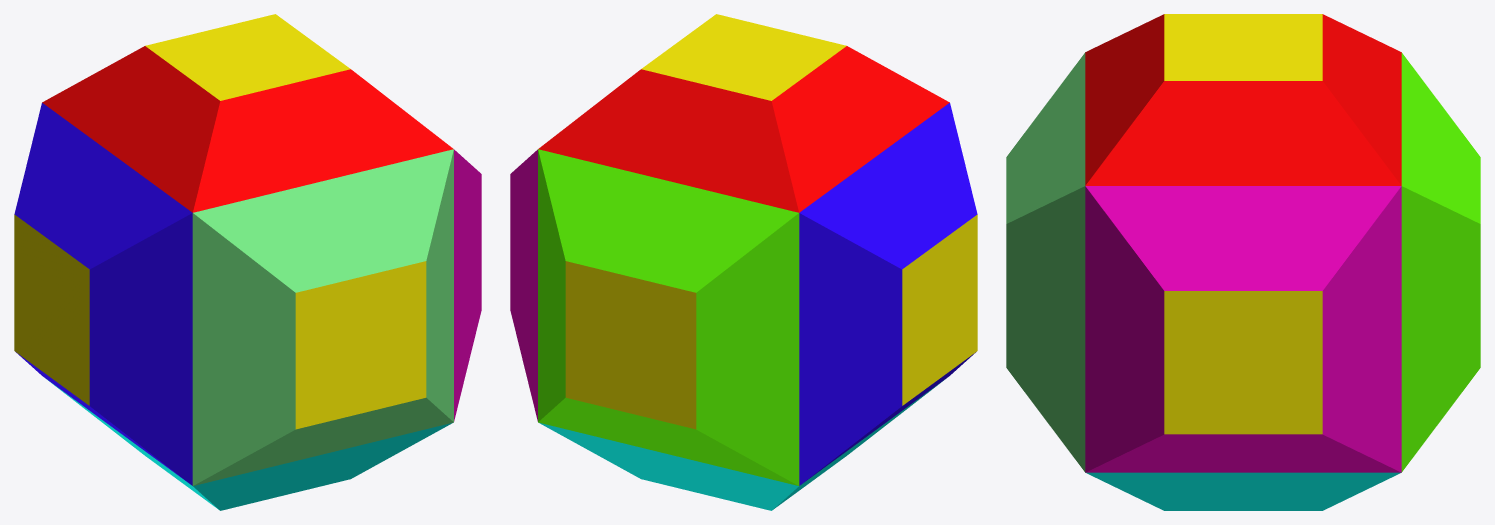
The model's file is PlayerBullet.dae.
The picture shows the model from 3 angles, left to right: view 1: azimuth 30°, elevation 25°; view 2: azimuth 150°, elevation 25°; view 3: azimuth 270°, elevation 25°; orthographic projection. The views are drawn at different scales.
Visible parts, largest first — view 1: Cube; view 2: Cube; view 3: Cube.
Part boxes in pixels (<box>): Cube: <box>14,14,481,510</box>; Cube: <box>510,14,977,510</box>; Cube: <box>1006,14,1480,510</box>.
Bounding box in the file's own units: 0.3 × 0.3 × 0.3.
